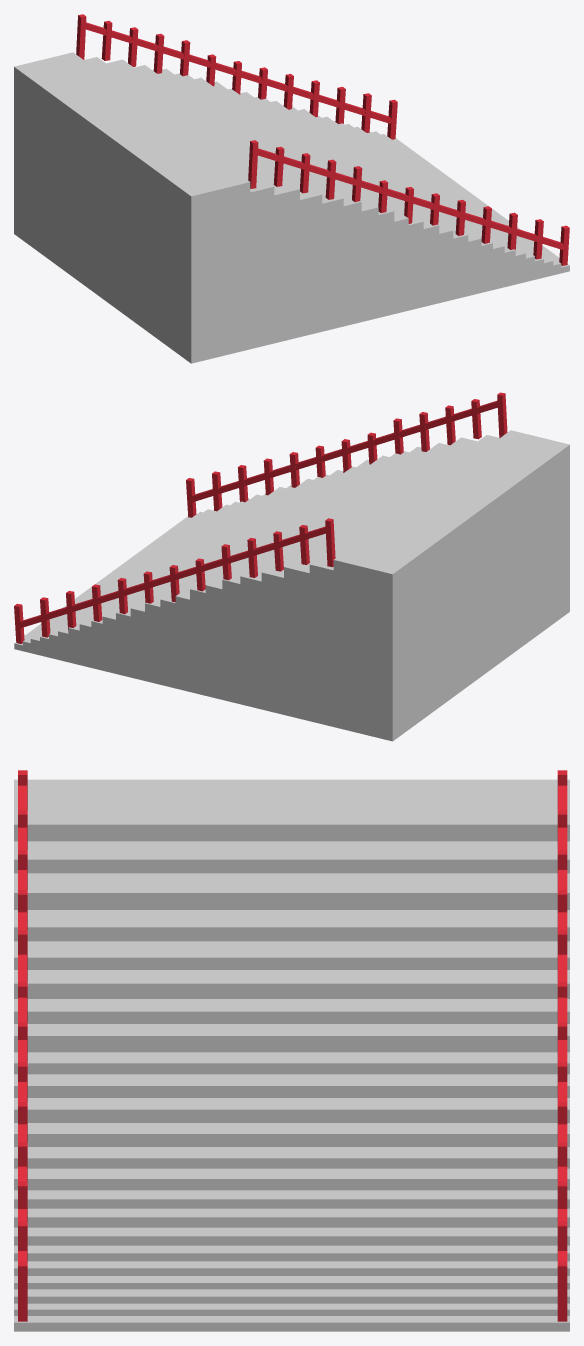
Rendered from Stairs_2.fbx.
The picture shows the model from 3 angles, top to bottom: view 1: azimuth 30°, elevation 25°; view 2: azimuth 150°, elevation 25°; view 3: azimuth 270°, elevation 25°; orthographic projection. The views are drawn at different scales.
Visible parts, largest first — view 1: Stairs, Fence; view 2: Stairs, Fence; view 3: Stairs, Fence.
Boxes of the visible parts, bbox=[...] form: Stairs: bbox=[14, 52, 569, 363]; Fence: bbox=[76, 14, 569, 265]; Stairs: bbox=[14, 430, 569, 741]; Fence: bbox=[14, 392, 507, 643]; Stairs: bbox=[14, 779, 569, 1331]; Fence: bbox=[18, 770, 567, 1321].
Bounding box in the file's own units: 3.41 × 1.75 × 2.76.
